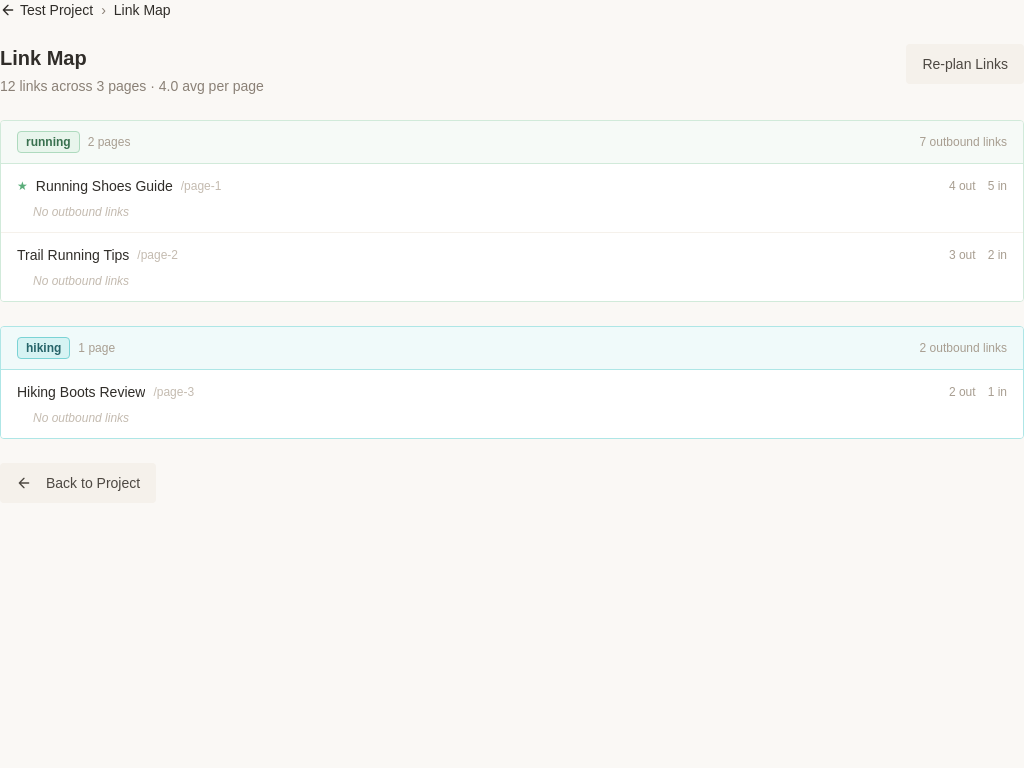
Scenario: OnboardingLinkMapPage › re-plan › cancels confirmation dialog
The image size is (1024, 768).
Click the button "Re-plan Links": (965, 64) [906,44,1023,84]
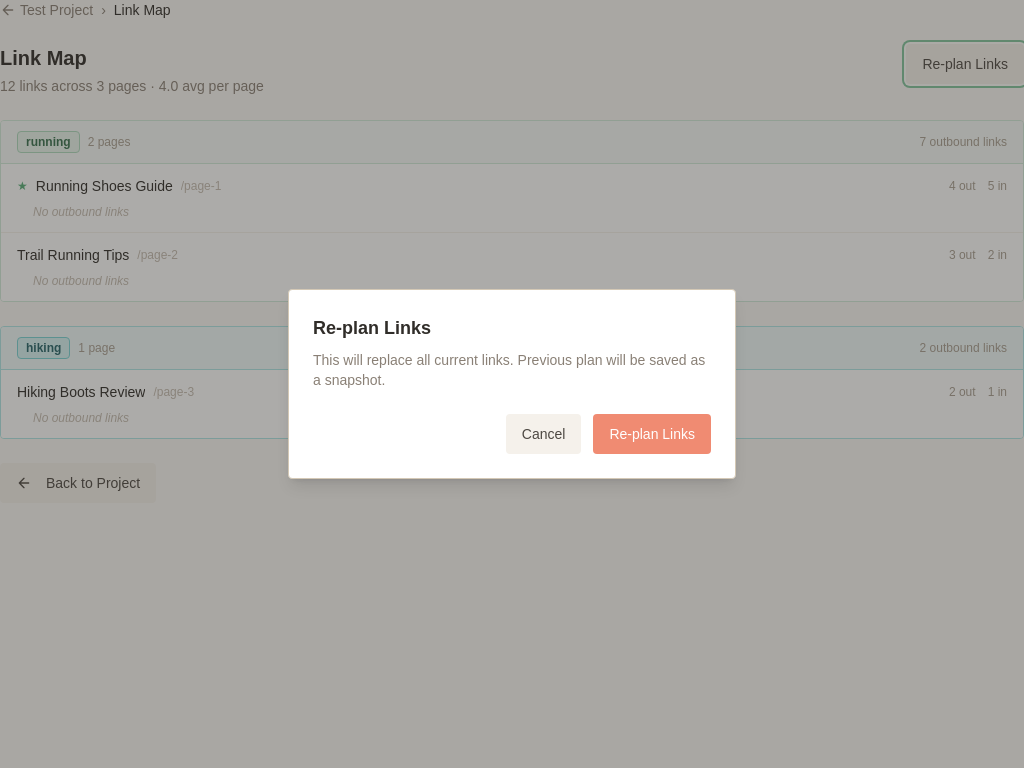
Note: Click cancel in the dialog
Click the button "Cancel": (544, 434) [506,414,581,454]
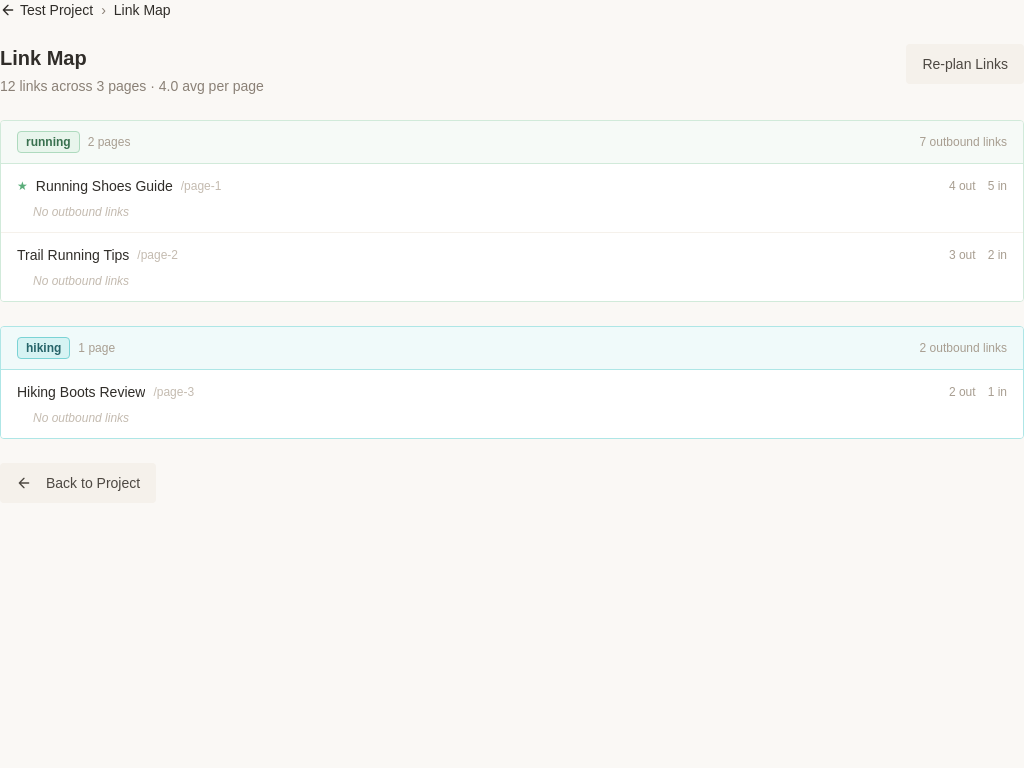
Now the text "This will replace all current links." is gone
